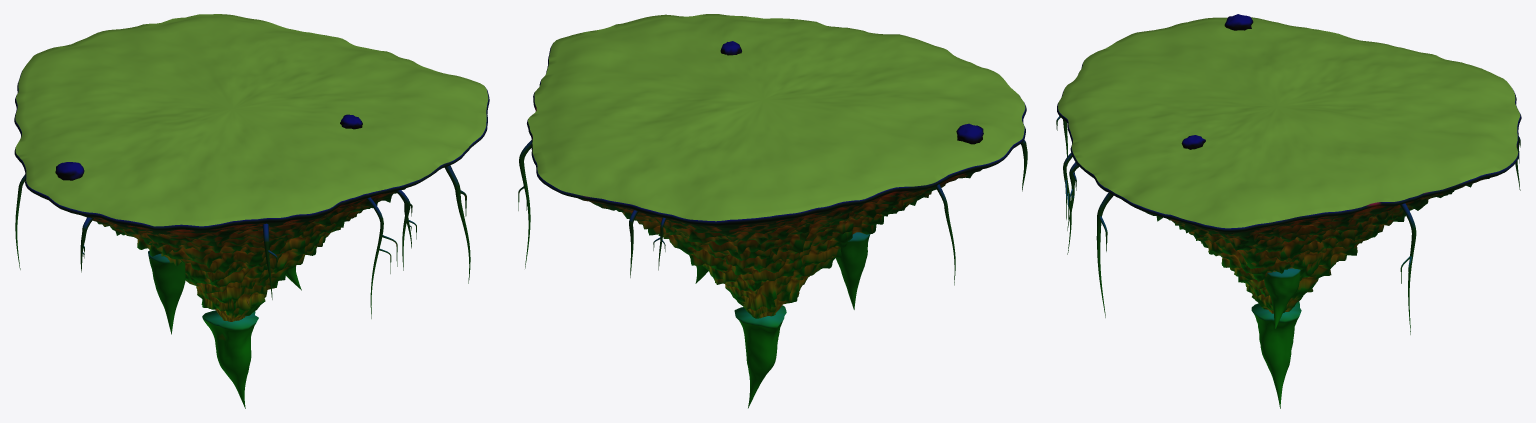
Rendered from SM_FloatingRock_B.glb.
The picture shows the model from 3 angles, left to right: view 1: azimuth 30°, elevation 25°; view 2: azimuth 150°, elevation 25°; view 3: azimuth 270°, elevation 25°; orthographic projection. The views are drawn at different scales.
Parts seen in each view (by area): view 1: SM_FloatingRock_B; view 2: SM_FloatingRock_B; view 3: SM_FloatingRock_B.
Boxes of the visible parts, box(x1,y1,x2,y2) form: SM_FloatingRock_B: box(14, 14, 489, 408); SM_FloatingRock_B: box(518, 14, 1027, 408); SM_FloatingRock_B: box(1056, 14, 1521, 408).
Bounding box in the file's own units: 25.45 × 16.85 × 23.61.
